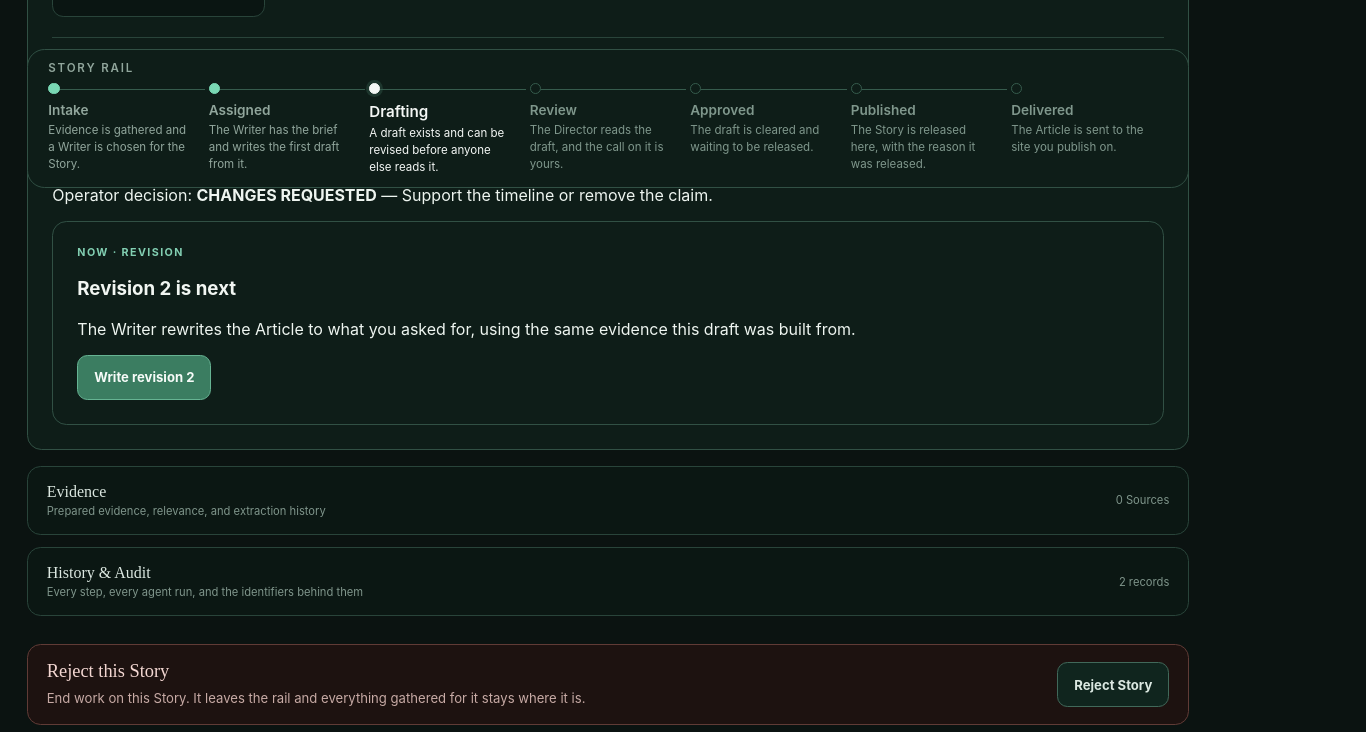
Test case: Director review workspace › offers the bounded Writer revision after an operator requests changes
(page scrolled)
Check: the heading "Revision 2 is next" is shown, box x1=77 y1=277 x2=236 y2=300
Click the button "Write revision 2": [144, 377] box x1=77 y1=355 x2=212 y2=400
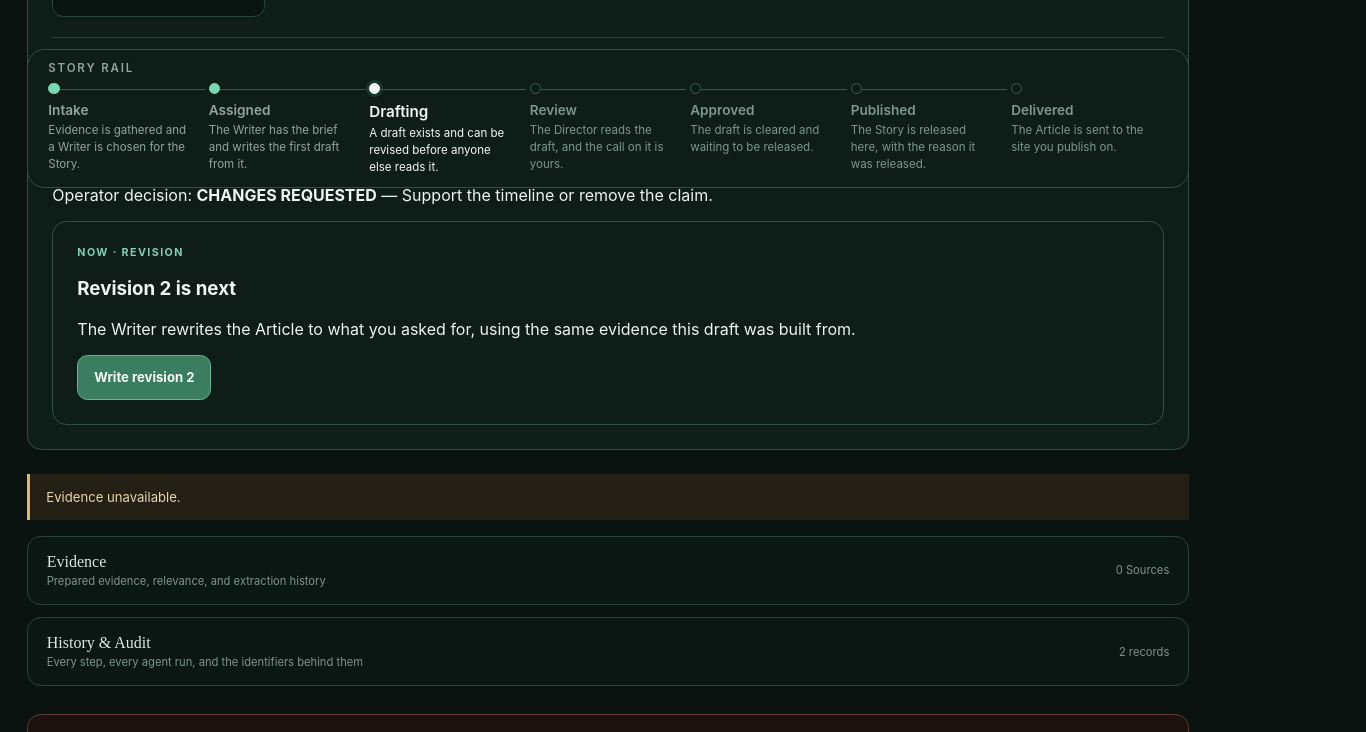
Check: the text "Evidence unavailable." is shown, box x1=27 y1=474 x2=1189 y2=520
